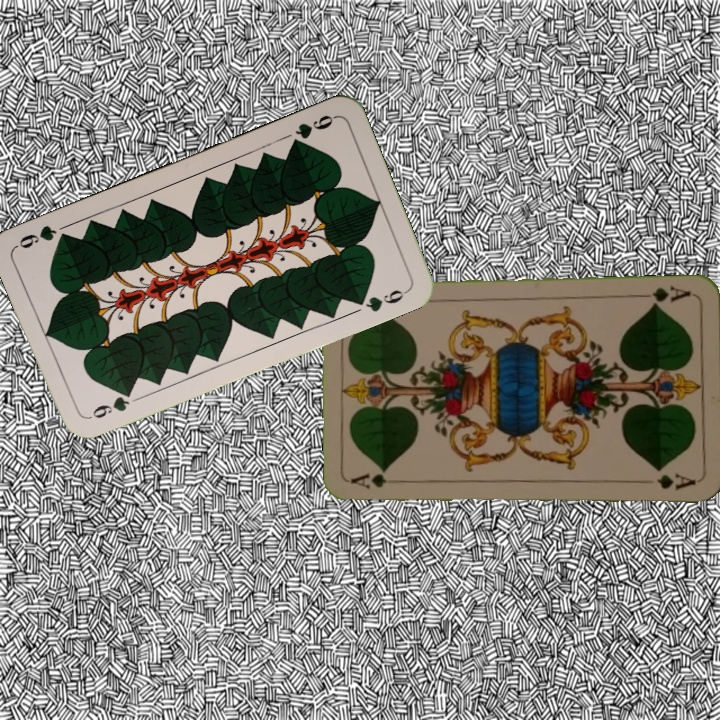G9: (287, 110, 339, 150), (84, 387, 135, 422)
GA: (635, 282, 693, 309), (348, 473, 407, 491)
